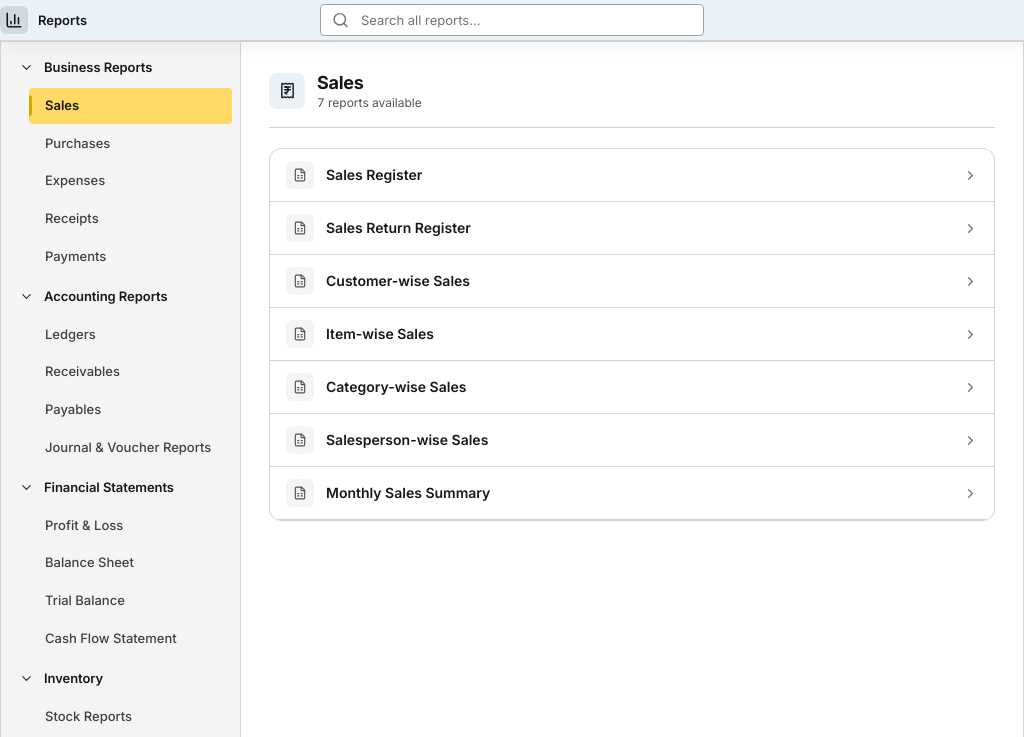
ReportsWorkspace › changes the report list when a sub-sidebar category is selected
Click the button "Purchases" at (130, 144), box left=29, top=126, right=232, bottom=161
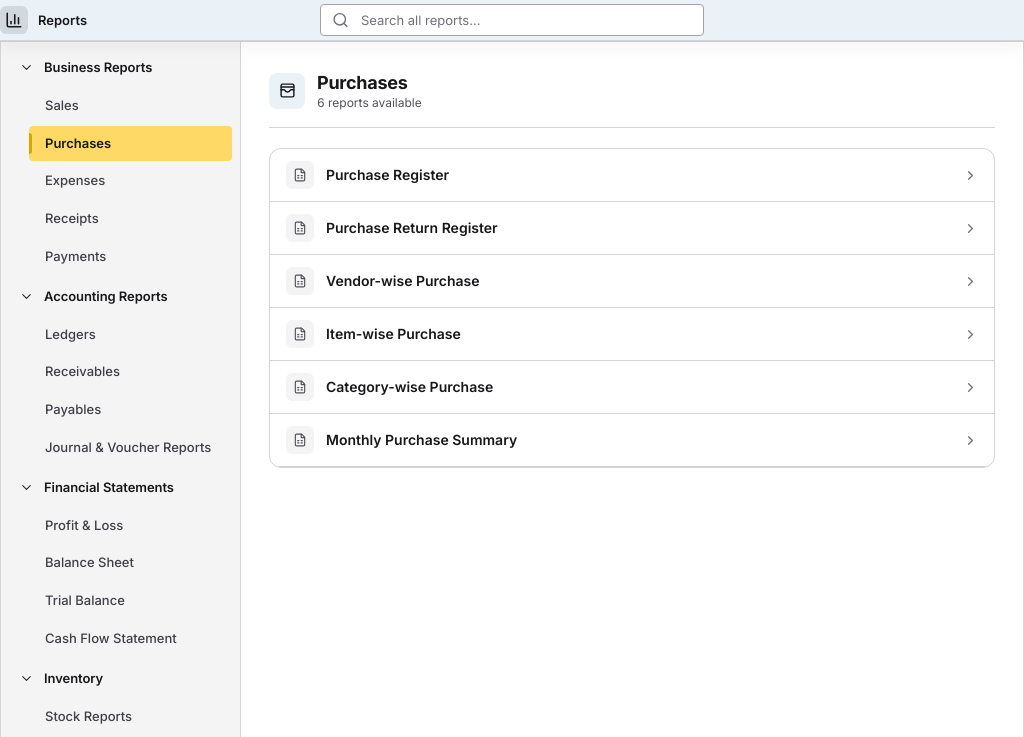
expect the heading "Purchases" is shown: met, box left=317, top=70, right=422, bottom=95
expect the button "Purchase Register" is shown: met, box left=270, top=149, right=994, bottom=202
expect the button "Purchase Return Register" is shown: met, box left=270, top=202, right=994, bottom=255
